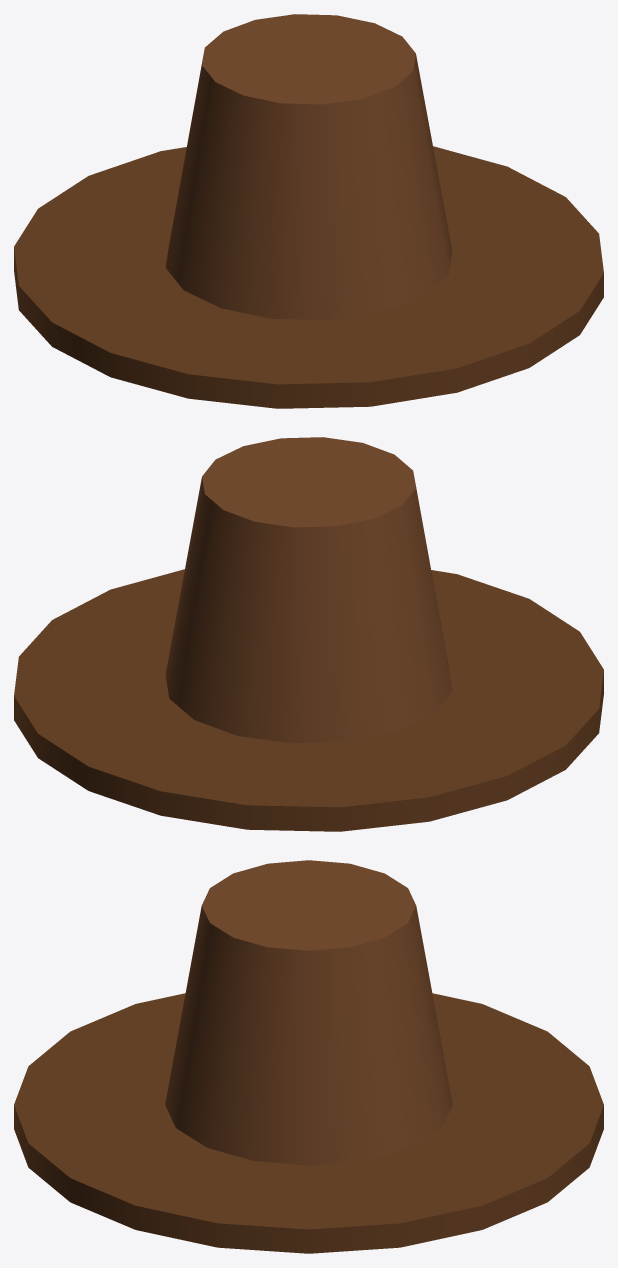
Rendered from hat-cowboy.glb.
The picture shows the model from 3 angles, top to bottom: view 1: azimuth 30°, elevation 25°; view 2: azimuth 150°, elevation 25°; view 3: azimuth 270°, elevation 25°; orthographic projection.
Visible parts, largest first — view 1: hat; view 2: hat; view 3: hat.
Part boxes in pixels (box(x1,y1,x2,y2)): hat: box(14, 14, 603, 408); hat: box(14, 437, 603, 831); hat: box(14, 860, 603, 1253).
Bounding box in the file's own units: 1.1 × 0.46 × 1.1.
